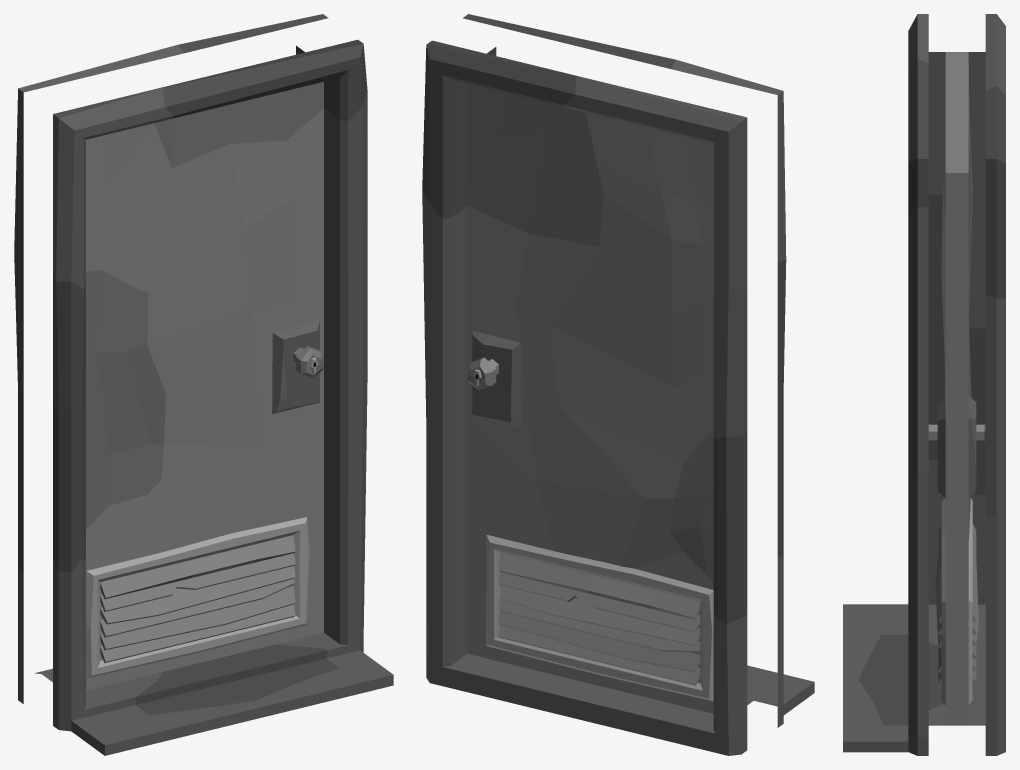
Rendered from SM_Door_B.gltf.
3 renders of one model, left to right at view 1: azimuth 30°, elevation 25°; view 2: azimuth 150°, elevation 25°; view 3: azimuth 270°, elevation 25°, orthographic. The views are drawn at different scales.
Parts seen in each view (by area): view 1: SM_DoorB, SM_Door_B; view 2: SM_DoorB, SM_Door_B; view 3: SM_Door_B, SM_DoorB.
Boxes of the visible parts, x1,y1,x2,y2 form: SM_DoorB: (86, 81, 323, 690); SM_Door_B: (14, 14, 393, 755); SM_DoorB: (467, 84, 713, 713); SM_Door_B: (422, 14, 814, 755); SM_Door_B: (843, 14, 1005, 755); SM_DoorB: (928, 52, 985, 725).
Bounding box in the file's own units: 1.23 × 2.32 × 0.5681.
Materials: 1 (1 with a texture image).
